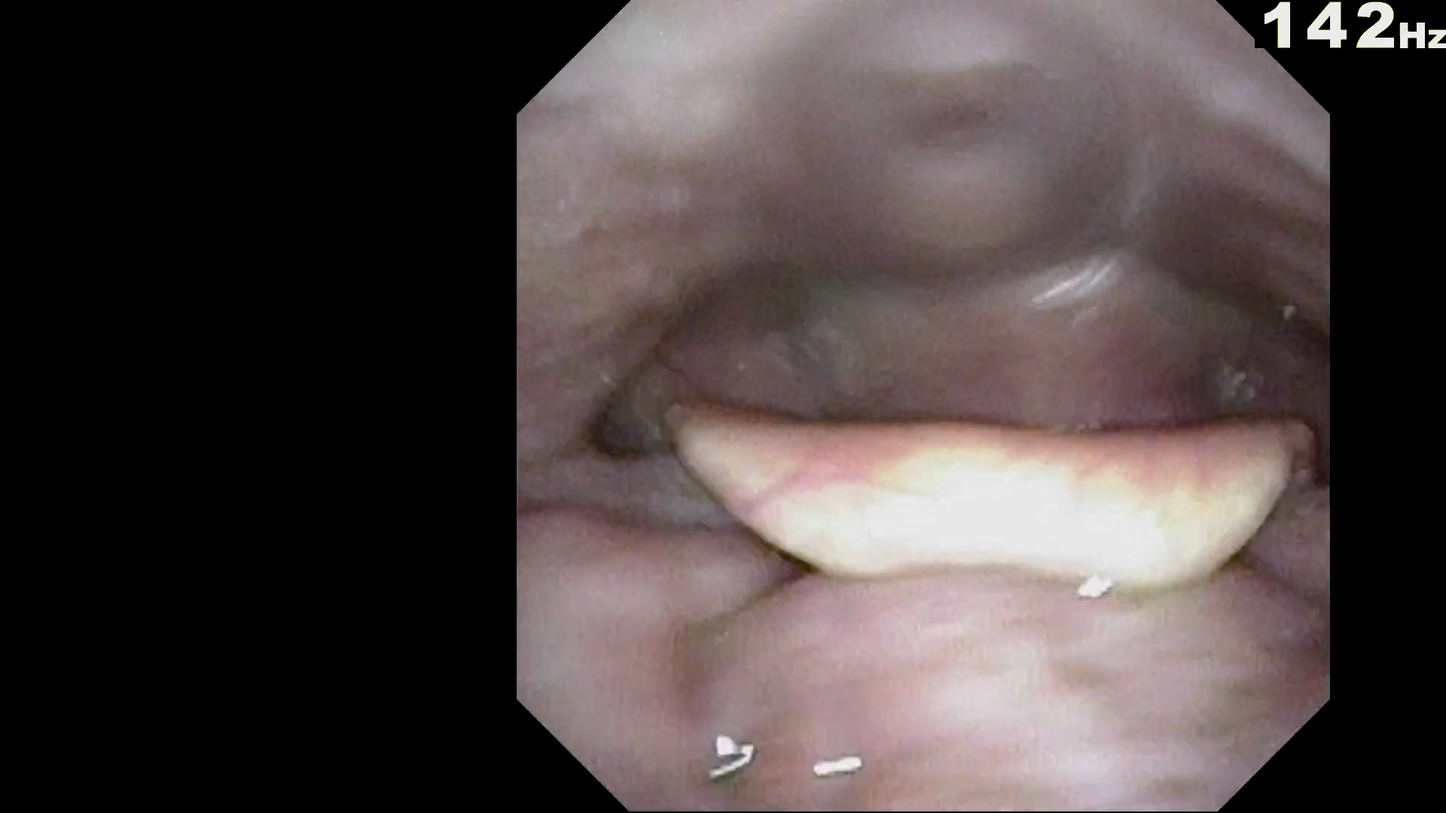epiglottis: (659, 399, 1274, 624)
